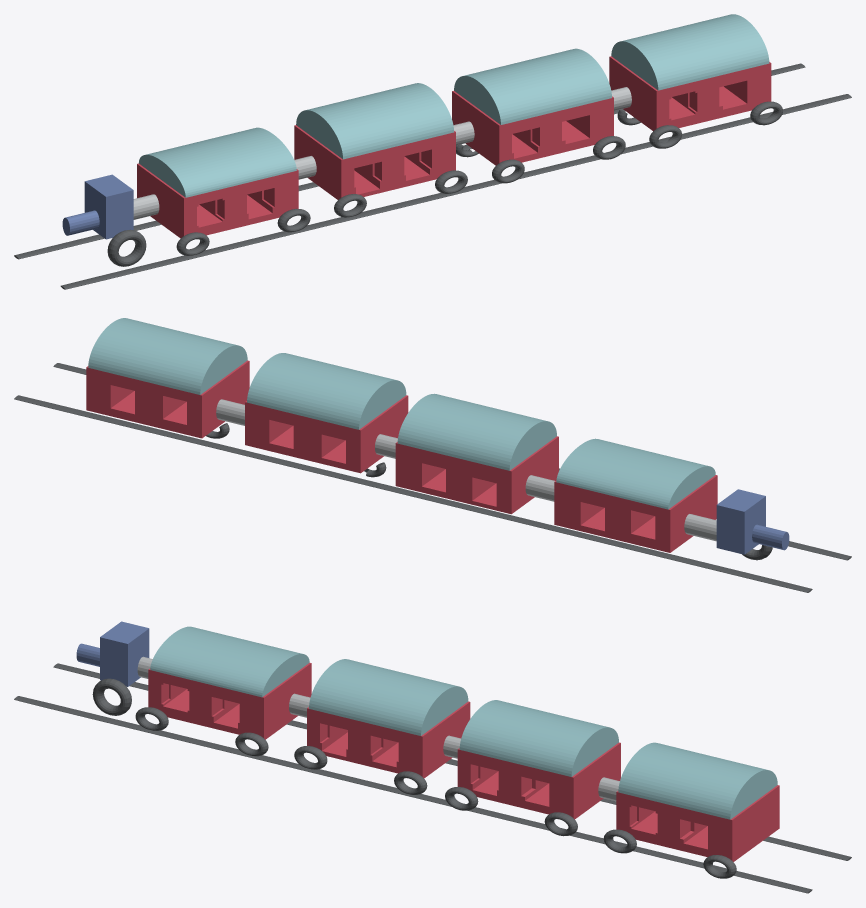
File: trainGLTF.glb
3 renders of one model, top to bottom at view 1: azimuth 30°, elevation 25°; view 2: azimuth 150°, elevation 25°; view 3: azimuth 330°, elevation 25°, orthographic.
Visible parts, largest first — view 1: Mesh_Mesh_head_geo.001_lambert2SG.001; view 2: Mesh_Mesh_head_geo.001_lambert2SG.001; view 3: Mesh_Mesh_head_geo.001_lambert2SG.001.
Part boxes in pixels (left/top/right/bottom): Mesh_Mesh_head_geo.001_lambert2SG.001: left=14, top=14, right=851, bottom=289; Mesh_Mesh_head_geo.001_lambert2SG.001: left=14, top=318, right=851, bottom=592; Mesh_Mesh_head_geo.001_lambert2SG.001: left=14, top=621, right=851, bottom=893.
Bounding box in the file's own units: 427 × 47 × 54.
